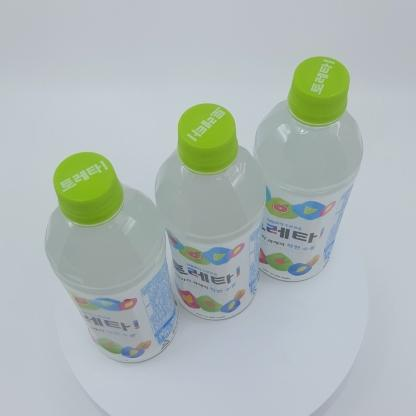-----500ML: (45, 151, 178, 363), (253, 56, 363, 283), (154, 103, 266, 320)
